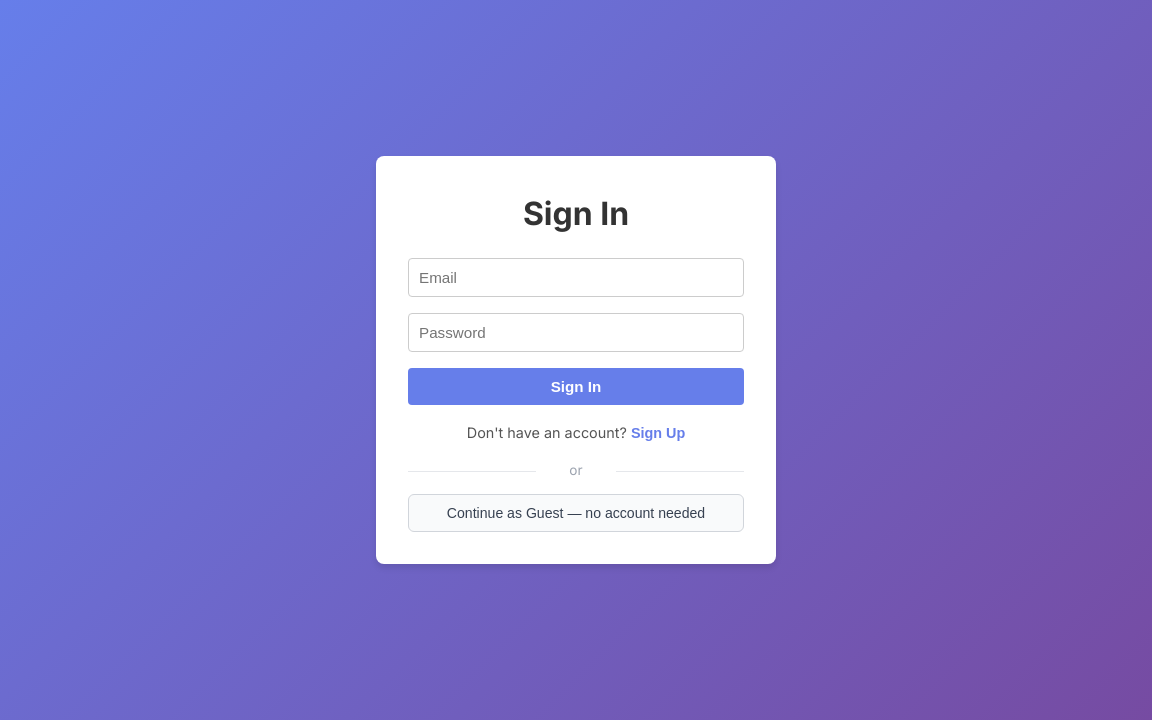
Test case: AuthPage – Sign Up mode › displays error message on signup failure
Click the button "Sign Up": [658, 433] box [631,425,685,441]
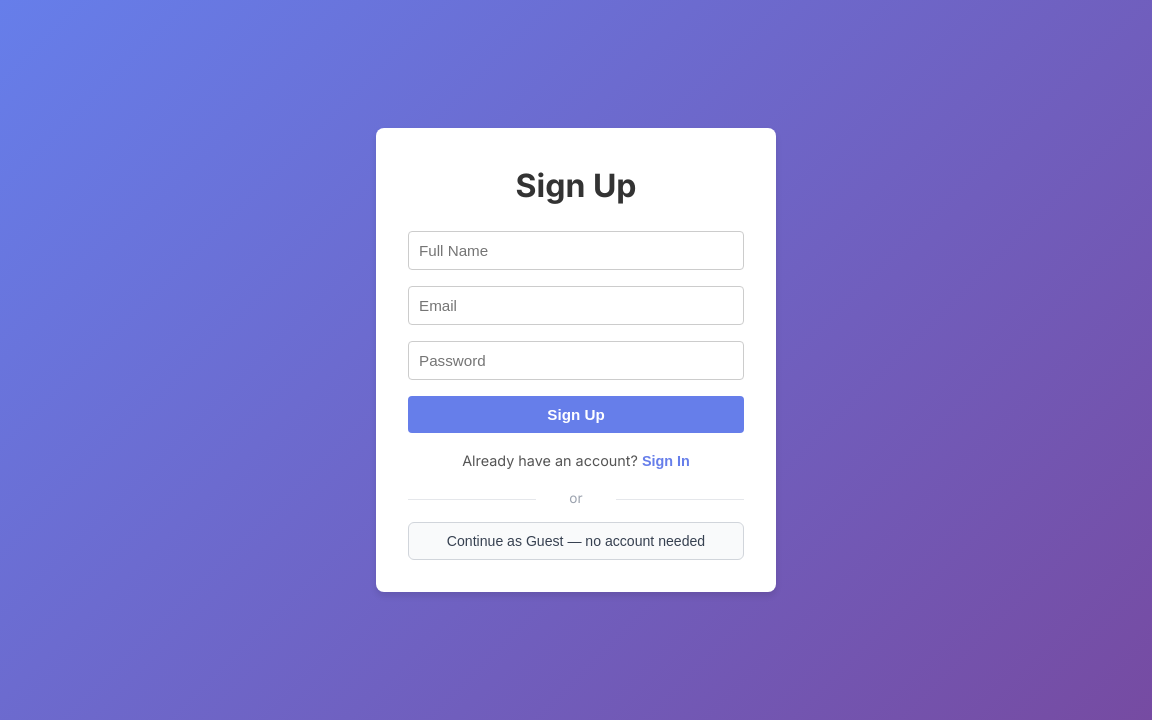
In the field with placeholder "Full Name": [576, 250] box [408,231,744,270], type "Bob"
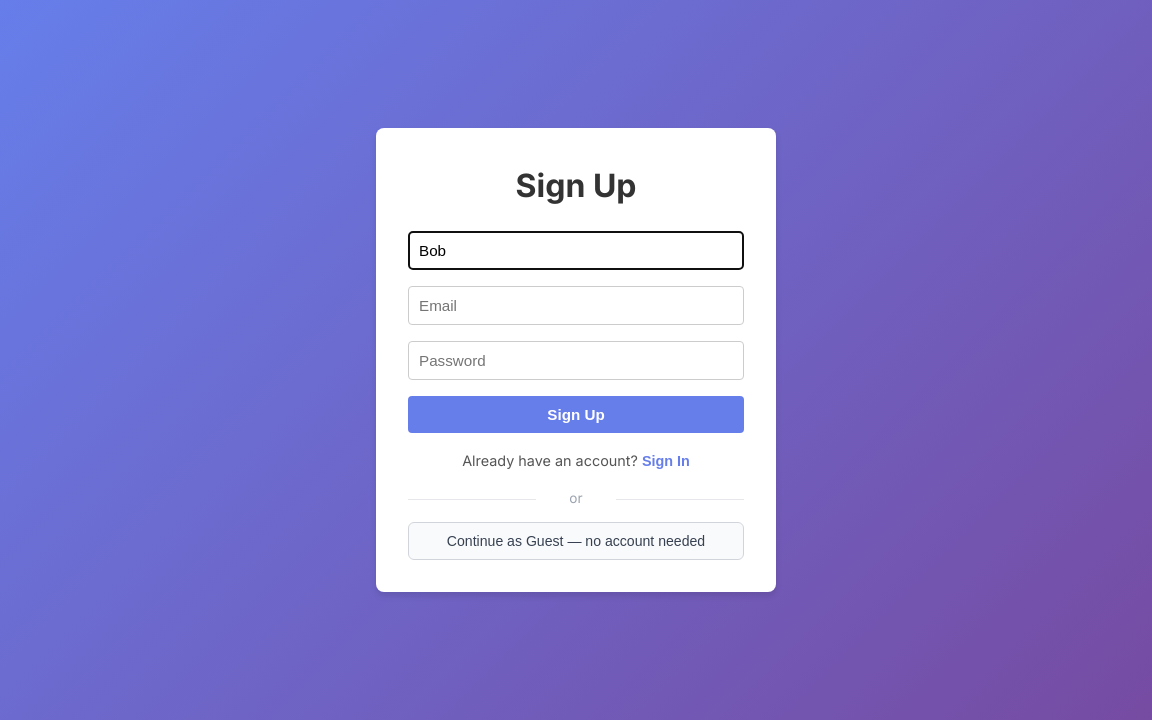
In the field with placeholder "Email": [576, 305] box [408,286,744,325], type "bob@test.com"
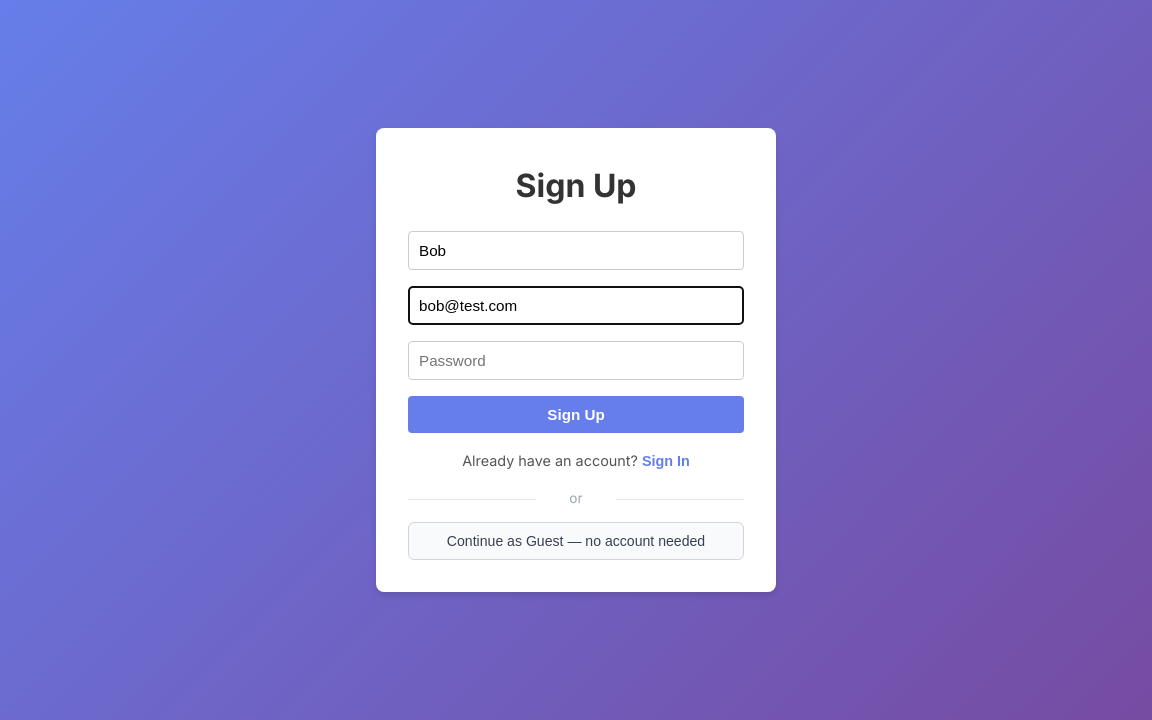
In the password field with placeholder "Password": [576, 360] box [408,341,744,380], type "pass1234"
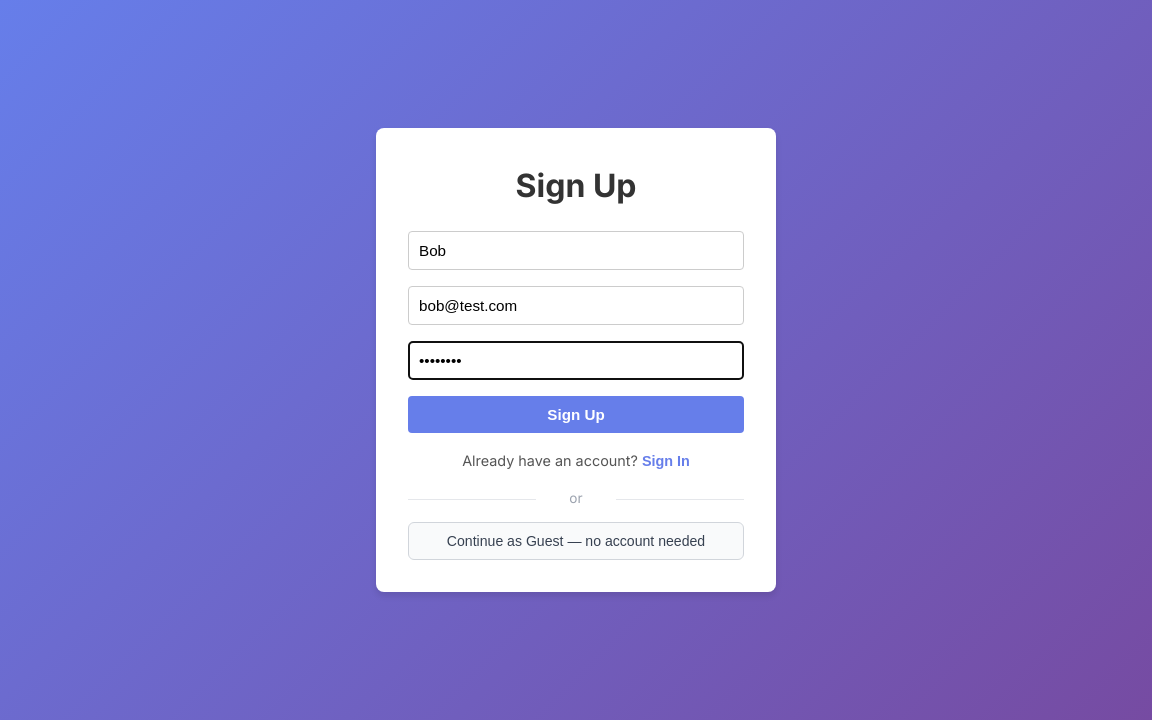
Click the button "Sign Up": [576, 414] box [408,396,744,433]
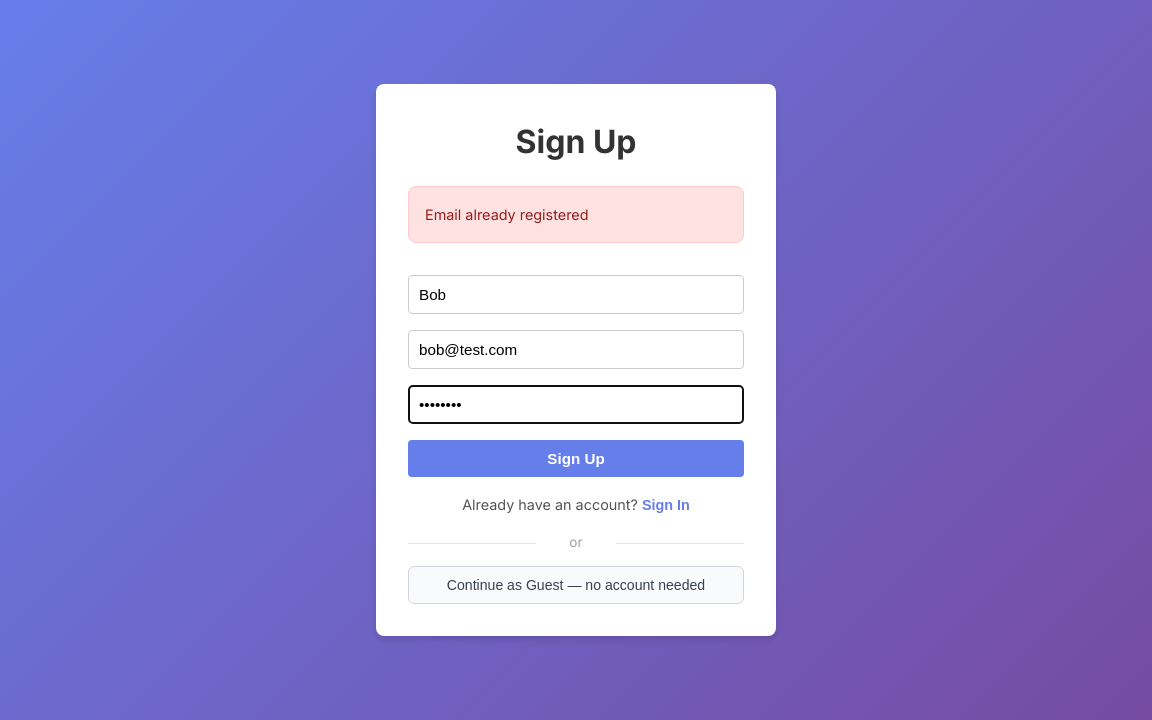
Check: the text "Email already registered" is shown, box [408,186,744,243]
